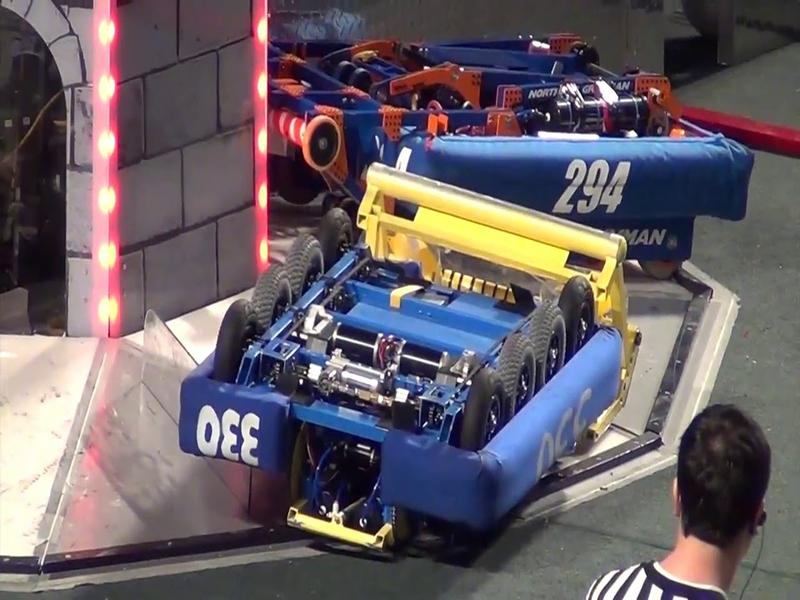robot: (192, 203, 636, 548), (270, 43, 754, 263)
